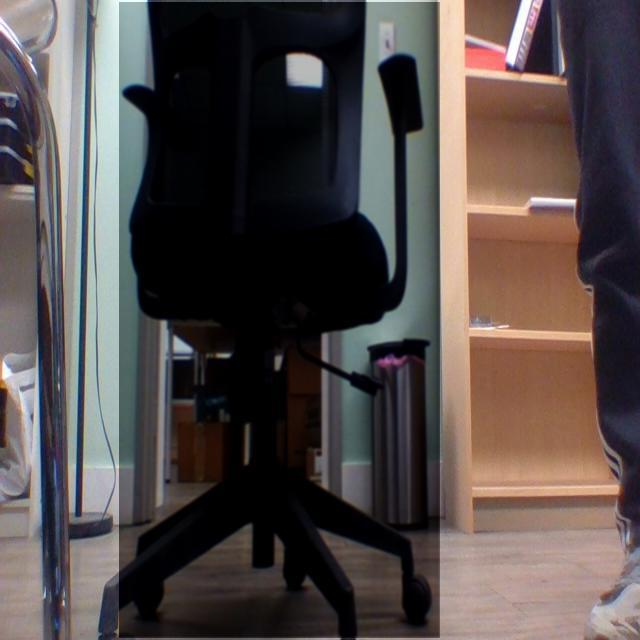chair: (95, 1, 443, 640)
